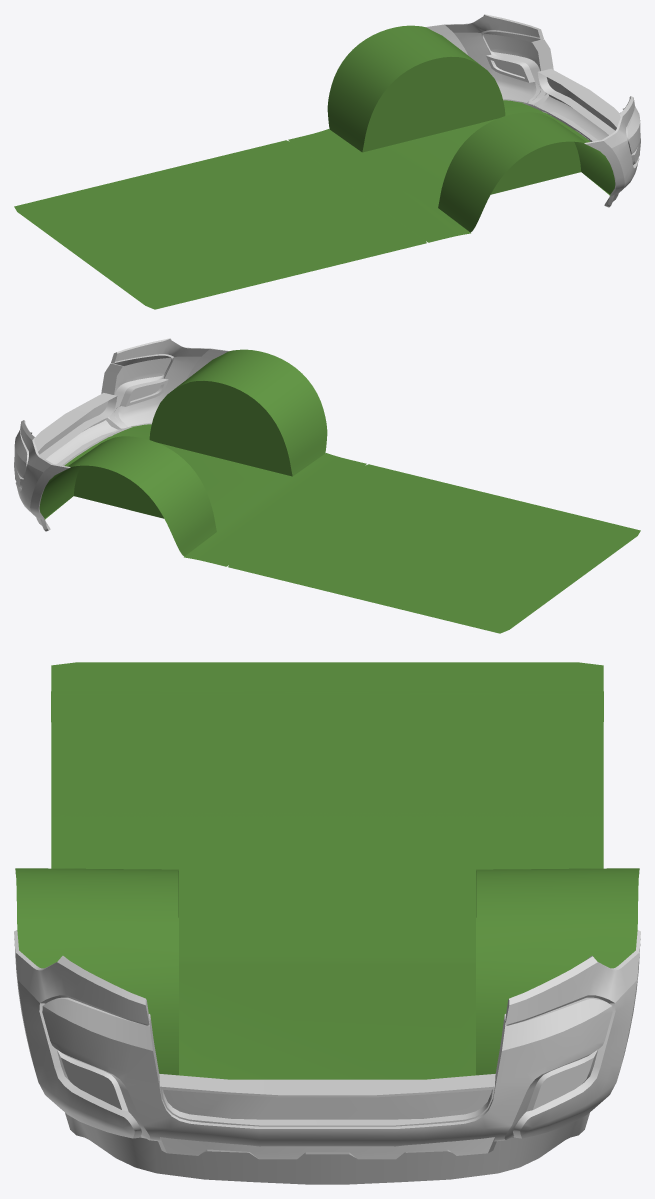
Rendered from front_bumper.fbx.
The picture shows the model from 3 angles, top to bottom: view 1: azimuth 30°, elevation 25°; view 2: azimuth 150°, elevation 25°; view 3: azimuth 270°, elevation 25°; orthographic projection. The views are drawn at different scales.
Visible parts, largest first — view 1: PTN_4X4_GB_14_001.013; view 2: PTN_4X4_GB_14_001.013; view 3: PTN_4X4_GB_14_001.013.
Boxes of the visible parts, bbox=[...] form: PTN_4X4_GB_14_001.013: bbox=[14, 14, 640, 309]; PTN_4X4_GB_14_001.013: bbox=[14, 338, 640, 633]; PTN_4X4_GB_14_001.013: bbox=[14, 662, 640, 1184].
Size of the model in its own units: 353 by 65.79 by 187.
